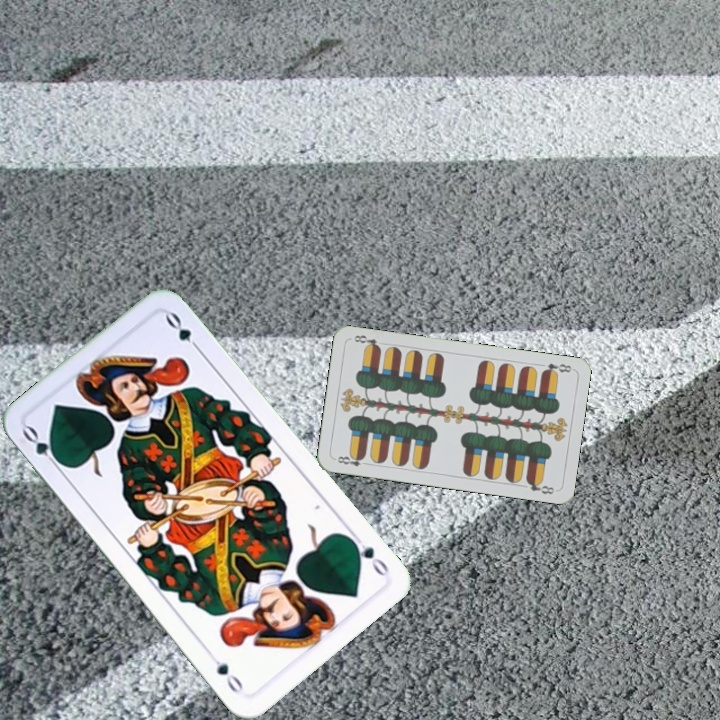E8: (333, 451, 372, 469), (538, 359, 574, 377)
GO: (18, 422, 67, 473), (345, 529, 392, 580)
